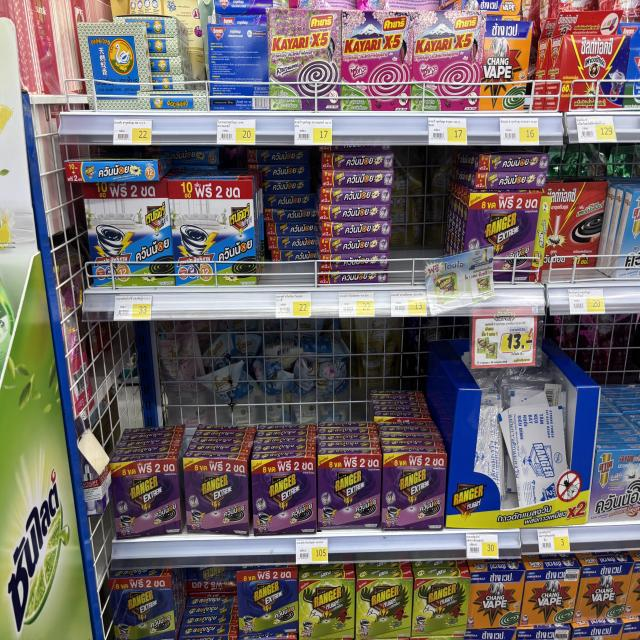empty_shelf: (97, 317, 448, 463), (389, 146, 465, 285), (258, 145, 320, 289), (175, 563, 237, 640)
